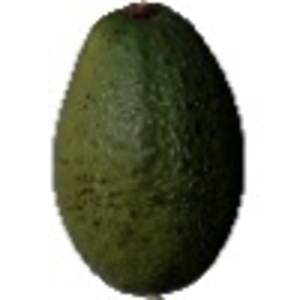abacate: (49, 2, 247, 294)
